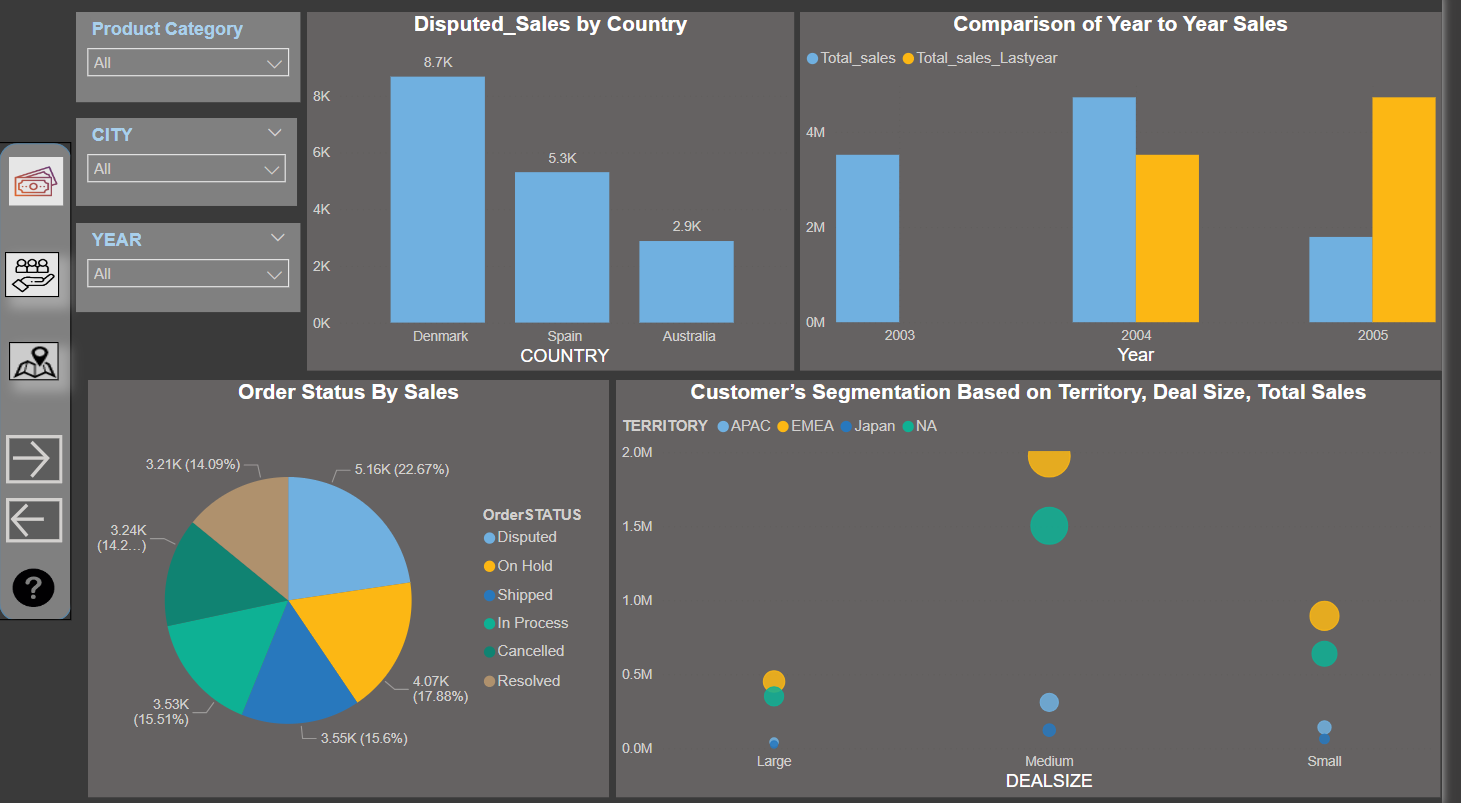

What the dashboard file says about the page in this screenshot:
{"tool":"powerbi","page":{"name":"CustomKPI","canvas":[1280,720],"ordinal":1},"visuals":[{"type":"clusteredColumnChart","title":"Comparison of Year to Year Sales","fields":{"Y":["DAX DateTable.Total_sales","DAX DateTable.Total_sales_Lastyear"],"Category":["DAX DateTable.Year"]},"box":[711,15.6,568.6,318.4],"z":0},{"type":"clusteredColumnChart","title":"Disputed_Sales by Country","fields":{"Category":["DimCountry.COUNTRY"],"Y":["DAX DateTable.Disputed_sales_kpi"]},"box":[274.1,15.6,432.1,318.4],"z":1000},{"type":"scatterChart","title":"Customer’s Segmentation Based on Territory, Deal Size, Total Sales","fields":{"X":["DimDealSize.DEALSIZE"],"Series":["DimCountry.TERRITORY"],"Y":["Sales_Fact_table.Last2years_Sales"],"Size":["Sales_Fact_table.Last2years_Sales"]},"box":[548.2,342.3,731.4,369.9],"z":2000},{"type":"shape","box":[0,130.9,64.6,423.7],"z":3000},{"type":"image","box":[7.8,504.8,46.7,43.8],"z":4000},{"type":"image","box":[9.6,308.8,44.3,33.5],"z":5000},{"type":"image","box":[6,228.6,47.9,39.5],"z":6000},{"type":"image","box":[9.6,144.8,47.9,43.1],"z":7000},{"type":"actionButton","box":[7.2,446.5,50.3,39.5],"z":8000},{"type":"actionButton","box":[7.2,391.4,50.3,43.1],"z":9000},{"type":"pieChart","title":"Order Status By Sales","fields":{"Category":["DimOrderStatus.OrderSTATUS"],"Y":["Avg(Sales_Fact_table.SALES)"]},"box":[80.2,342.3,462,369.9],"z":10000},{"type":"slicer","fields":{"Values":["DimProductCategory.productCategory"]},"box":[69.4,15.6,198.7,80.2],"z":11000},{"type":"slicer","fields":{"Values":["DimCustomer.CITY"]},"box":[69.4,110.1,196.3,77.8],"z":12000},{"type":"slicer","title":"YEAR","fields":{"Values":["Sales_Fact_table.YEAR_ID"]},"box":[69.4,203.5,198.7,79],"z":13000}]}

Visuals, with their boxes in screenshot pixels (x1, y1, x2, y2):
"Comparison of Year to Year Sales" clusteredColumnChart: box(795, 10, 1443, 373)
"Disputed_Sales by Country" clusteredColumnChart: box(297, 10, 790, 373)
"Customer’s Segmentation Based on Territory, Deal Size, Total Sales" scatterChart: box(610, 383, 1443, 802)
shape: box(0, 142, 58, 625)
image: box(0, 568, 47, 618)
image: box(0, 344, 46, 383)
image: box(0, 253, 46, 298)
image: box(0, 157, 50, 207)
actionButton: box(0, 501, 50, 546)
actionButton: box(0, 439, 50, 488)
"Order Status By Sales" pieChart: box(76, 383, 603, 802)
slicer - DimProductCategory.productCategory: box(64, 10, 290, 102)
slicer - DimCustomer.CITY: box(64, 118, 288, 207)
"YEAR" slicer: box(64, 224, 290, 314)
